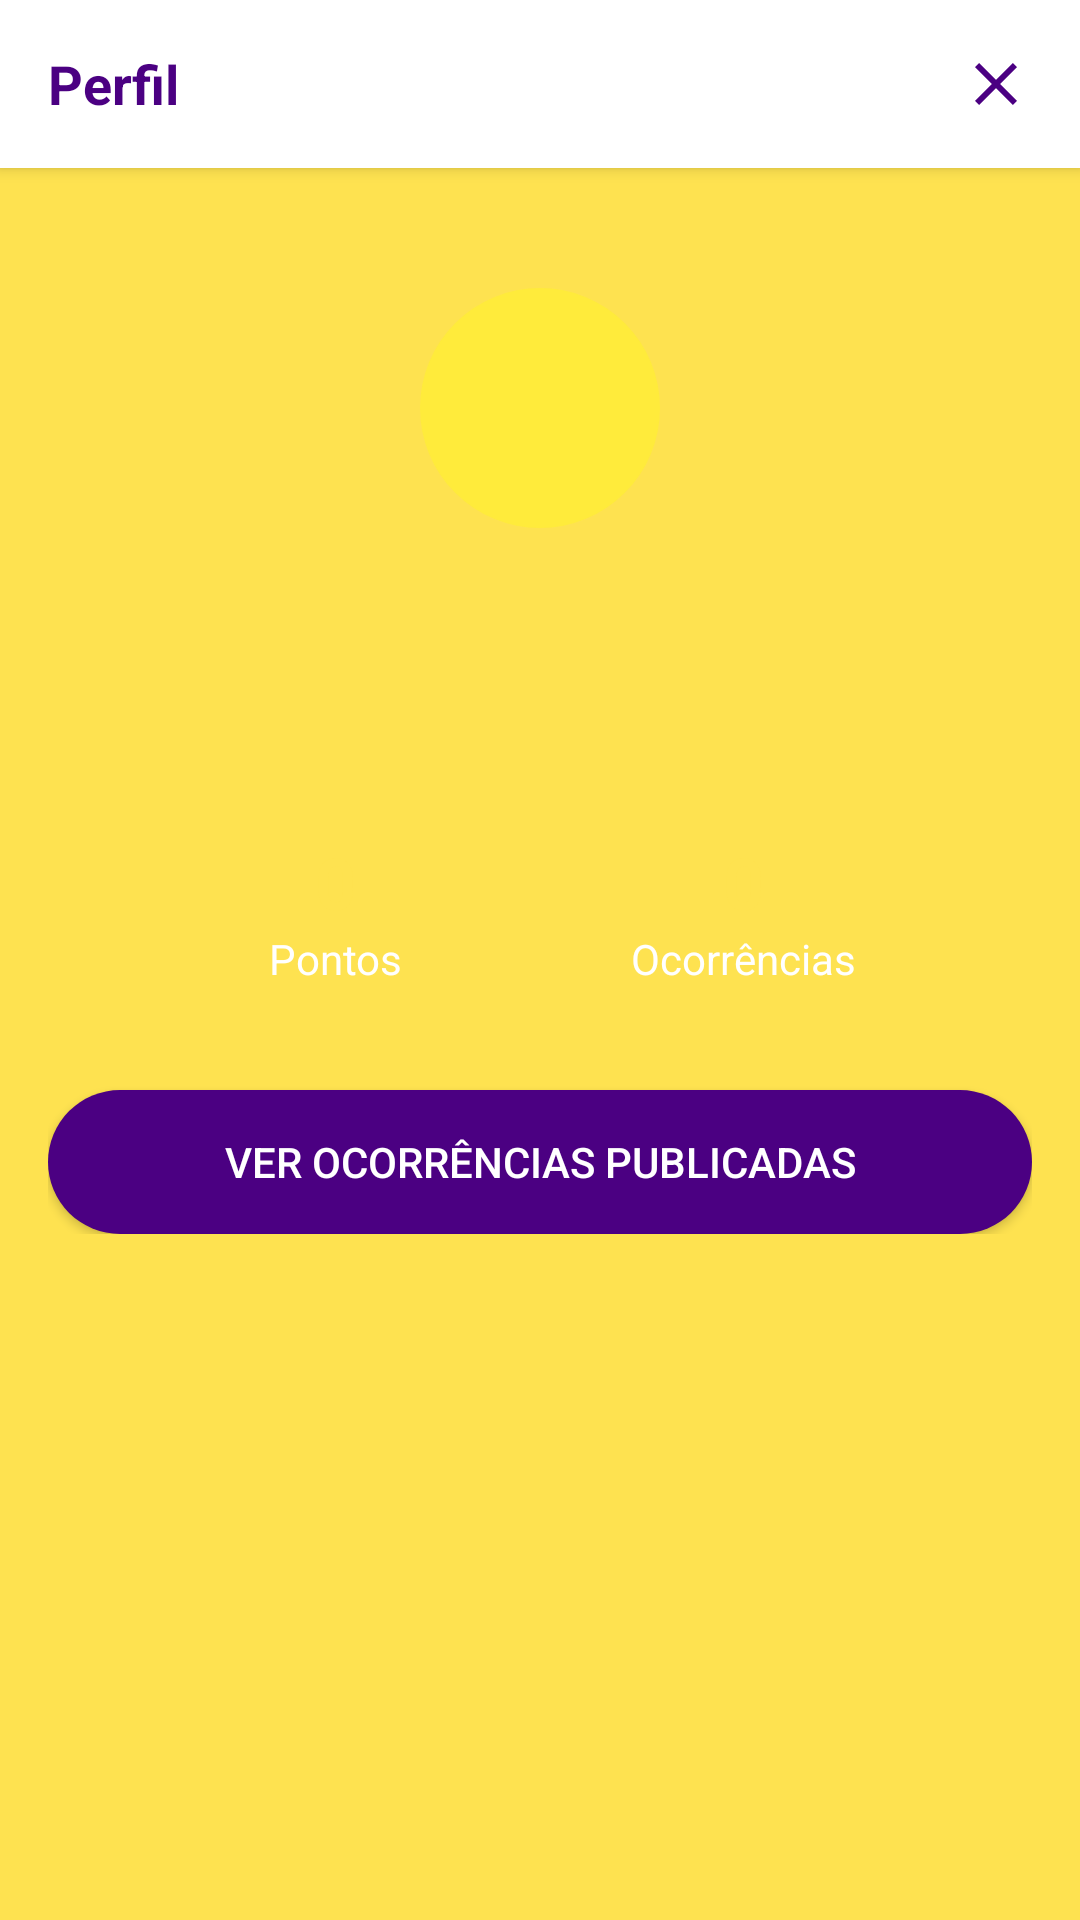

Where to tap for icons on this 1080 x 1920 app screen, as (x=x, y=y):
fechar: (x=996, y=84)
